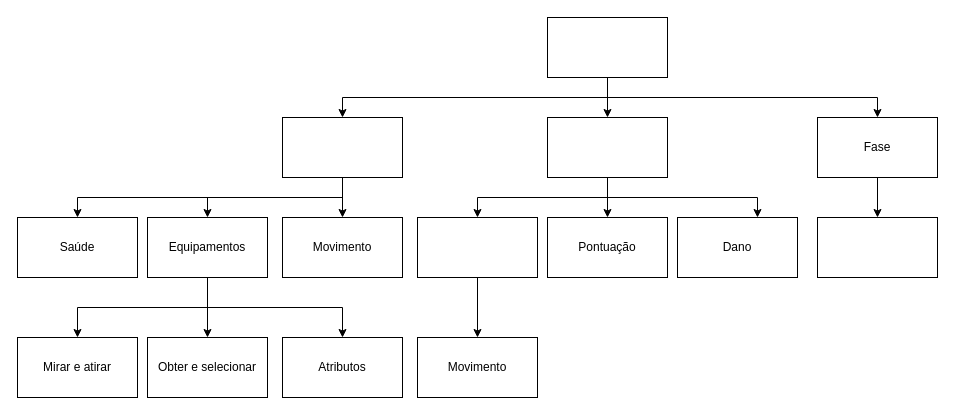
The diagram is 955 pixels wide and 415 high, and some of its shapes have lost their labels. Each missing label, with the centre of its shape:
Comportamento: (x=477, y=247)
Inimigos: (x=607, y=147)
Jogador: (x=342, y=147)
Jogo de palhaço: (x=607, y=47)
Layout: (x=877, y=247)
